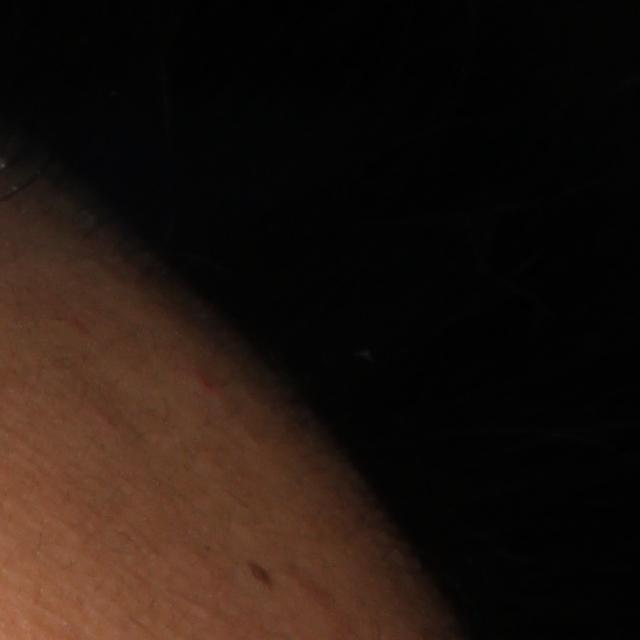nevus: (242, 556, 274, 594)
